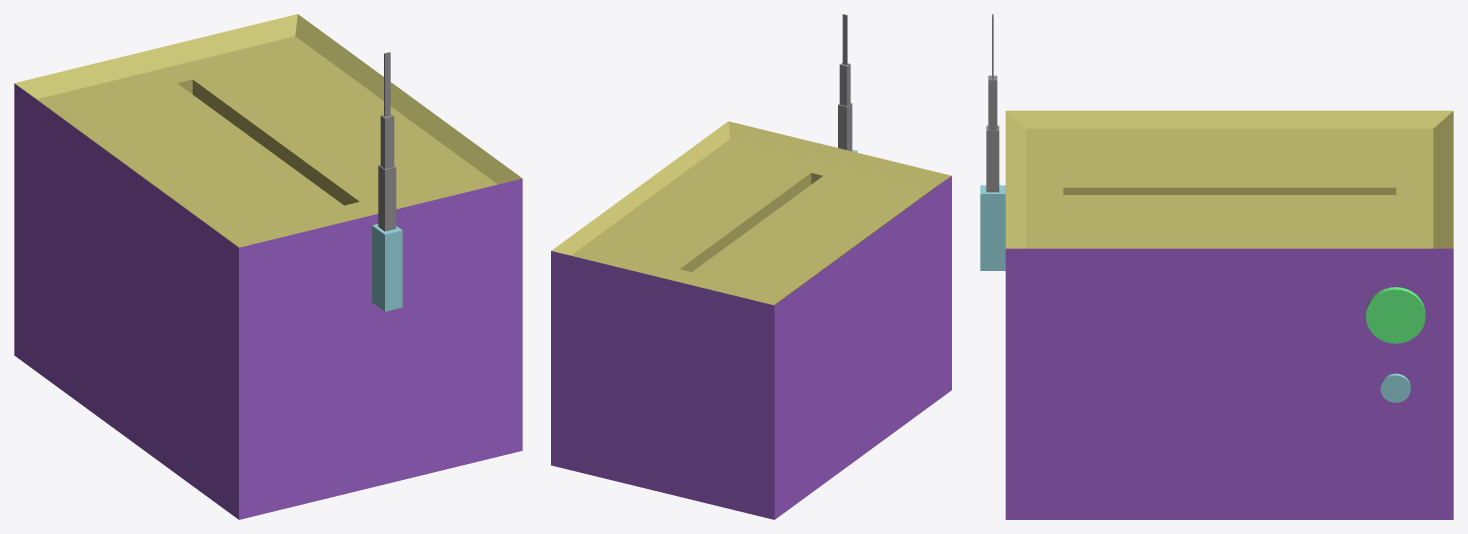
File: AdaCardBox.fbx
The picture shows the model from 3 angles, left to right: view 1: azimuth 30°, elevation 25°; view 2: azimuth 150°, elevation 25°; view 3: azimuth 270°, elevation 25°; orthographic projection. The views are drawn at different scales.
Visible parts, largest first — view 1: Cube; view 2: Cube; view 3: Cube.
Part boxes in pixels (x1,y1,x2,y2): Cube: (14,14,522,519); Cube: (551,14,951,519); Cube: (980,14,1453,519).
Size of the model in its own units: 244 by 354 by 348.
